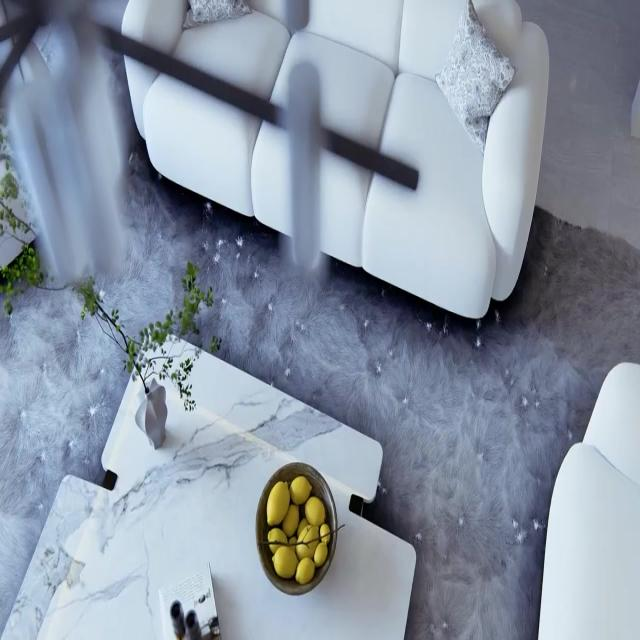obstacle: (121, 0, 550, 325), (2, 330, 416, 638), (537, 360, 639, 638)
